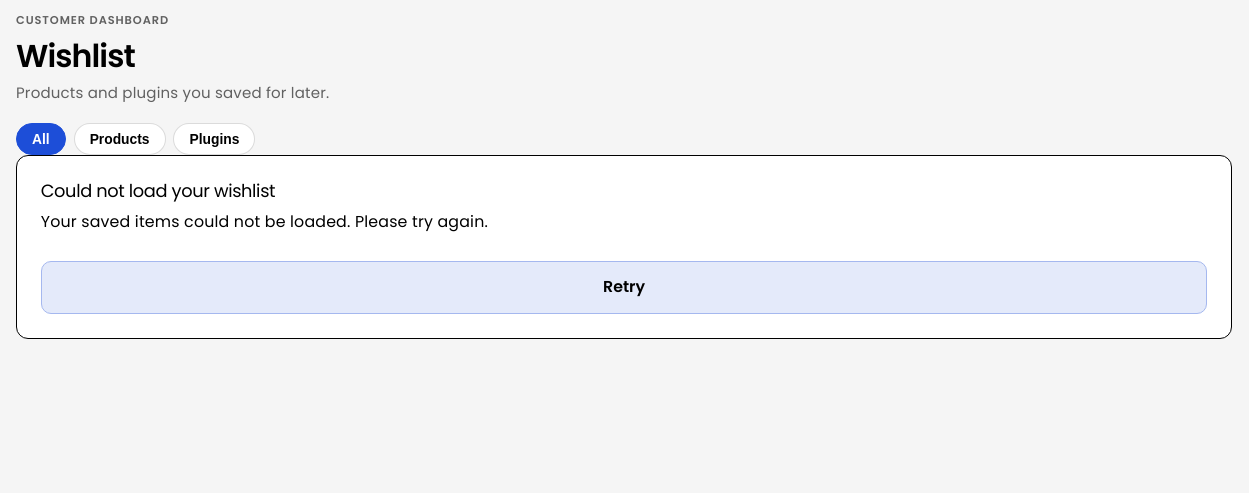
Scenario: WishlistPage › shows error state and retries
Expected: the heading "Could not load your wishlist" is shown, x1=41 y1=178 x2=275 y2=203
Click the button "Retry".
click(624, 288)  # box x1=41 y1=261 x2=1207 y2=314
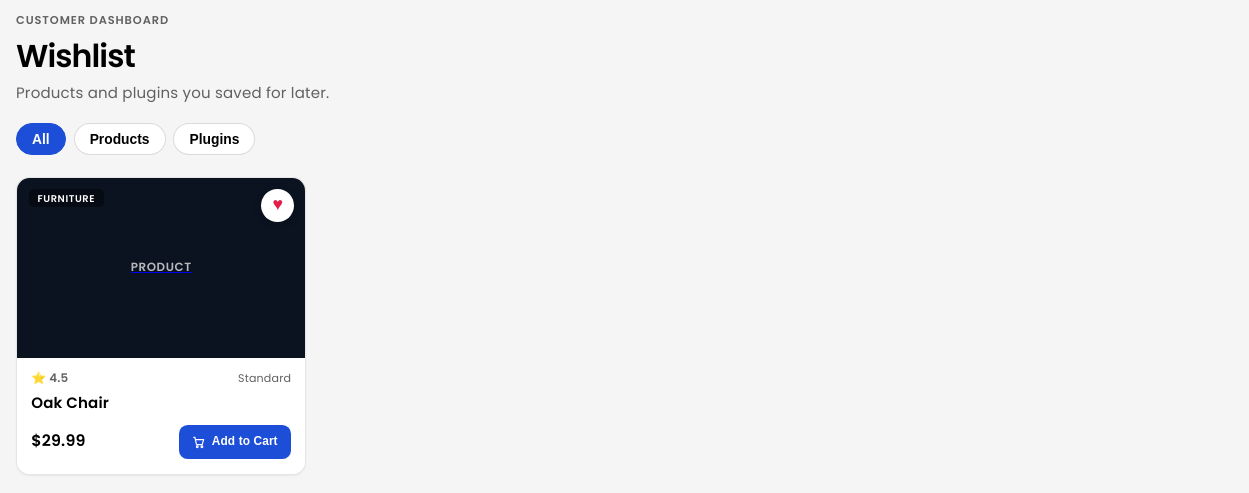
Expected: the link "Oak Chair" is shown, x1=31 y1=392 x2=109 y2=412
